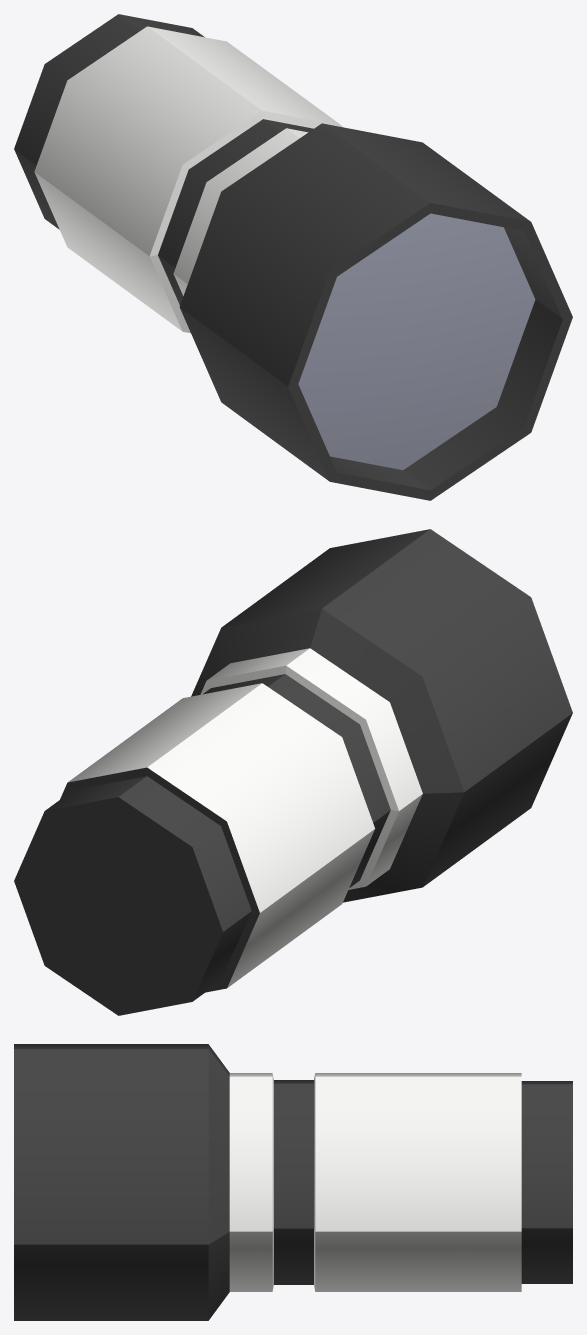
Rendered from Camera-Lens-Large_01.fbx.
3 views of the same model, one above another, from view 1: azimuth 30°, elevation 25°; view 2: azimuth 150°, elevation 25°; view 3: azimuth 270°, elevation 25° (orthographic). The views are drawn at different scales.
Parts seen in each view (by area): view 1: DSLR_Lens_Large; view 2: DSLR_Lens_Large; view 3: DSLR_Lens_Large.
Boxes of the visible parts, x1=… form: DSLR_Lens_Large: x1=14, y1=14, x2=572, y2=500; DSLR_Lens_Large: x1=14, y1=529, x2=572, y2=1015; DSLR_Lens_Large: x1=14, y1=1044, x2=572, y2=1320.
Size of the model in its own units: 0.0944 by 0.0944 by 0.179.
